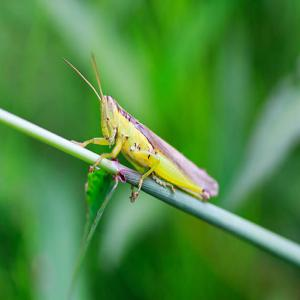locust: (76, 61, 223, 206)
